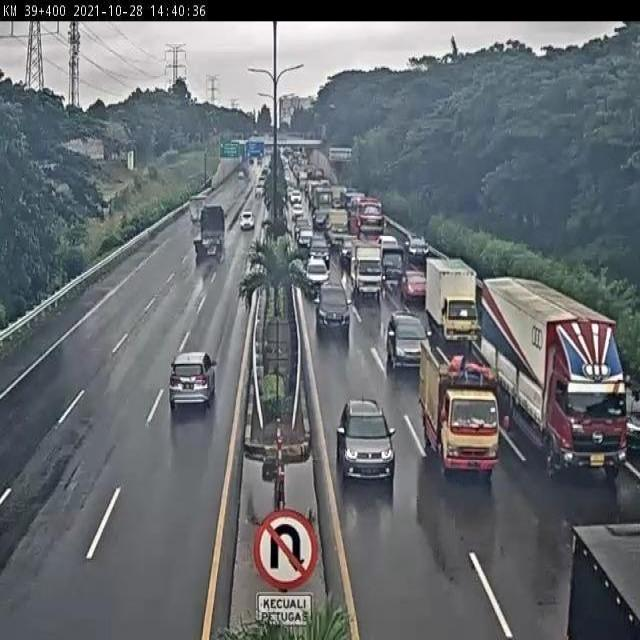Bus: (349, 194, 386, 240)
Car: (336, 398, 398, 485), (168, 349, 219, 412), (385, 310, 434, 370), (314, 283, 352, 335), (399, 269, 430, 305), (303, 258, 331, 286), (238, 212, 256, 231)
Truck: (478, 277, 634, 482), (419, 337, 511, 481), (566, 519, 640, 640), (424, 255, 479, 346), (192, 204, 227, 264), (348, 240, 384, 298), (326, 208, 348, 248)
